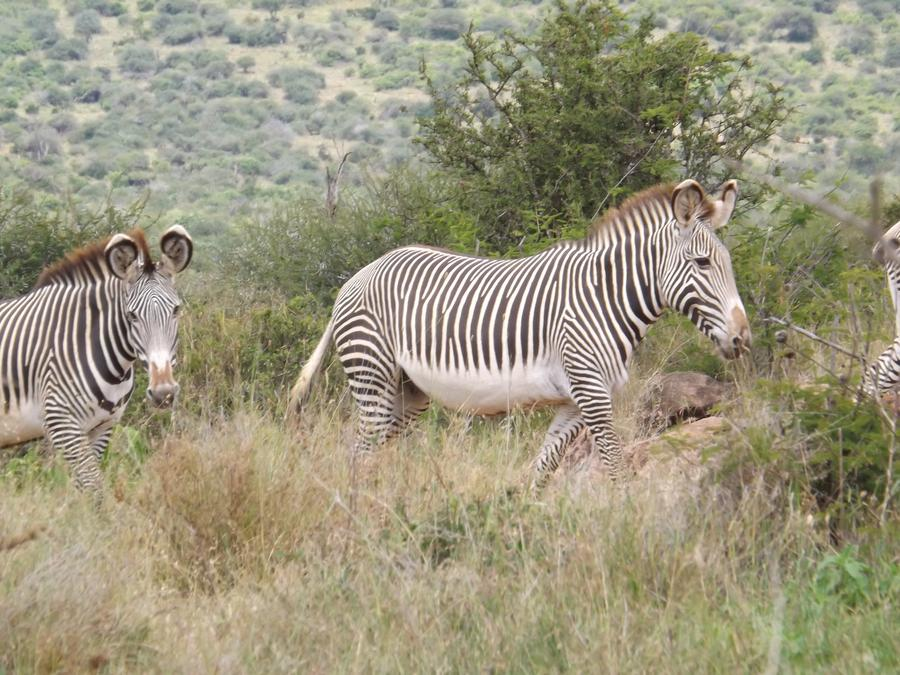zebra_grevys: (336, 237, 627, 398)
